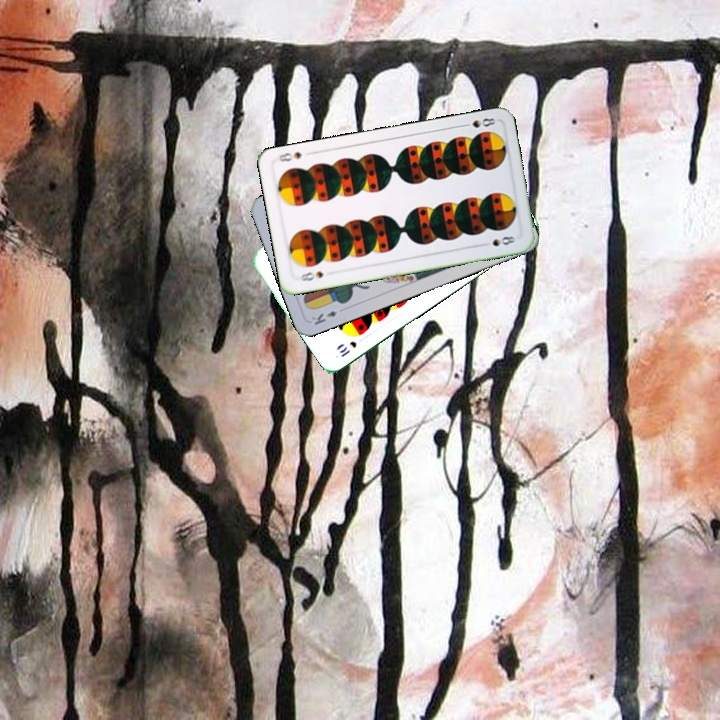EK: (307, 307, 340, 328)
S10: (335, 337, 359, 360)
S8: (457, 114, 498, 130), (297, 267, 326, 284)
